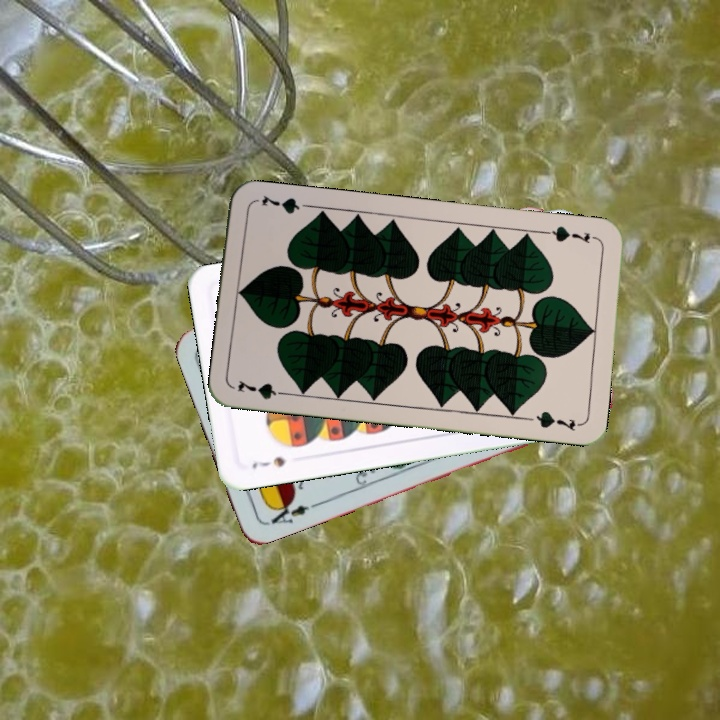EA: (266, 496, 320, 527)
G7: (234, 376, 292, 402), (541, 222, 600, 247)
S7: (248, 452, 288, 472)
